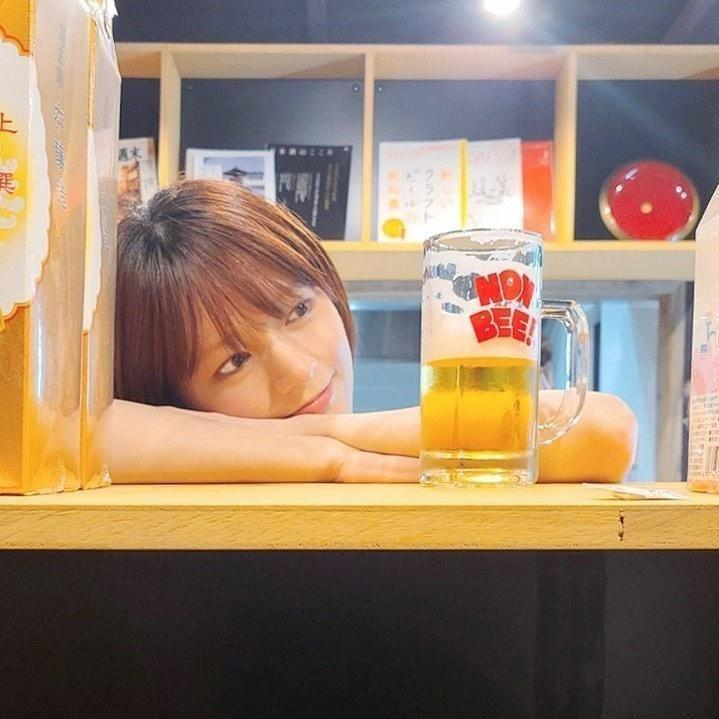glass-mug: (412, 222, 594, 503)
